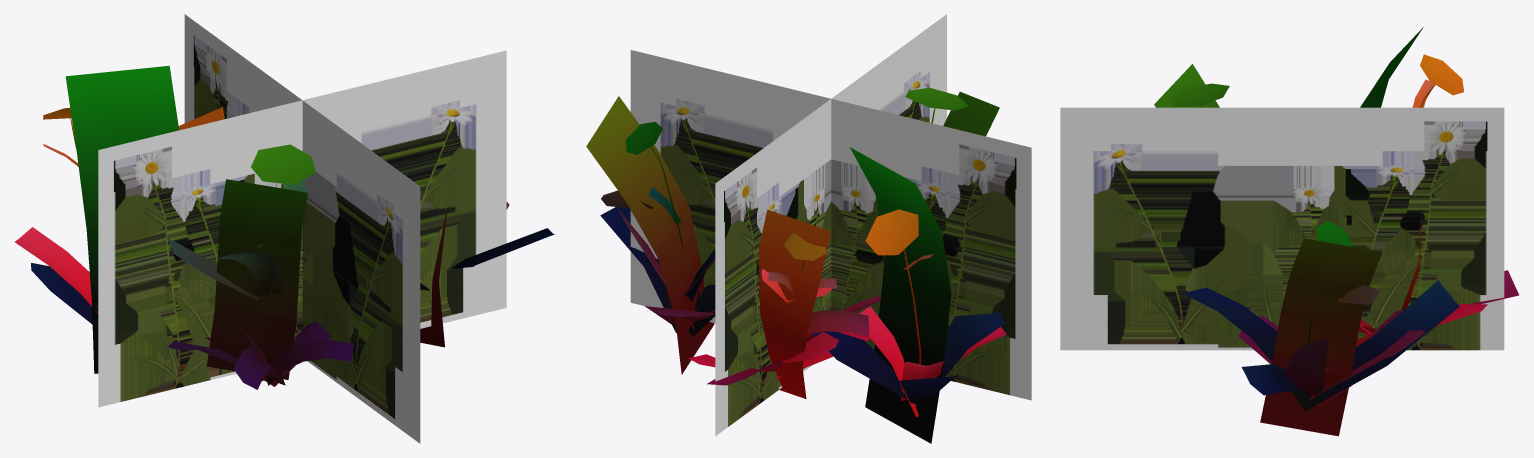
File: MSH_Field_WhiteDaisy_C.fbx
3 views of the same model, side by side, from view 1: azimuth 30°, elevation 25°; view 2: azimuth 150°, elevation 25°; view 3: azimuth 270°, elevation 25° (orthographic). The views are drawn at different scales.
Visible parts, largest first — view 1: Field_WhiteDaisy_C_LOD2_GEO, Field_WhiteDaisy_C_LOD1_GEO, Field_WhiteDaisy_C_LOD0_GEO; view 2: Field_WhiteDaisy_C_LOD2_GEO, Field_WhiteDaisy_C_LOD1_GEO, Field_WhiteDaisy_C_LOD0_GEO; view 3: Field_WhiteDaisy_C_LOD2_GEO, Field_WhiteDaisy_C_LOD1_GEO, Field_WhiteDaisy_C_LOD0_GEO.
Part boxes in pixels (left/top/right/bottom): Field_WhiteDaisy_C_LOD2_GEO: left=98, top=14, right=506, bottom=443; Field_WhiteDaisy_C_LOD1_GEO: left=31, top=65, right=509, bottom=379; Field_WhiteDaisy_C_LOD0_GEO: left=15, top=108, right=554, bottom=389; Field_WhiteDaisy_C_LOD2_GEO: left=630, top=14, right=1031, bottom=435; Field_WhiteDaisy_C_LOD1_GEO: left=586, top=91, right=1004, bottom=443; Field_WhiteDaisy_C_LOD0_GEO: left=600, top=87, right=1006, bottom=417; Field_WhiteDaisy_C_LOD2_GEO: left=1060, top=107, right=1504, bottom=350; Field_WhiteDaisy_C_LOD1_GEO: left=1154, top=27, right=1487, bottom=436; Field_WhiteDaisy_C_LOD0_GEO: left=1169, top=54, right=1518, bottom=411.
Bounding box in the file's own units: 77.43 × 49.5 × 72.76.
